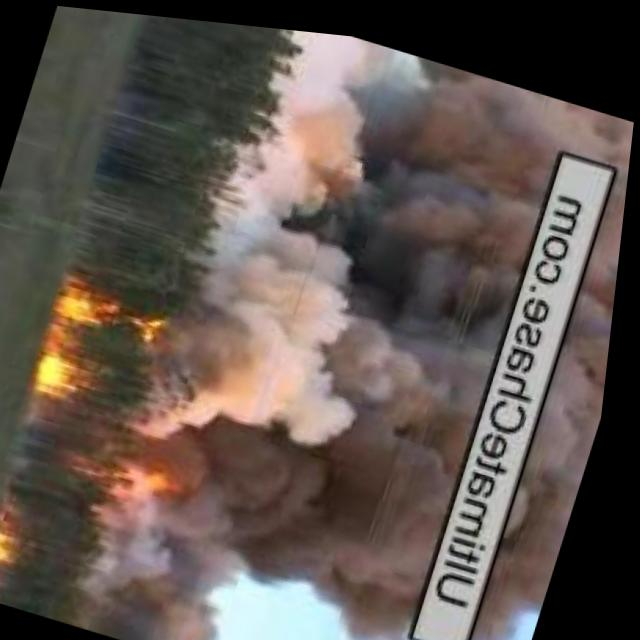Fire: (32, 274, 180, 420), (106, 441, 227, 515), (0, 521, 35, 573)
